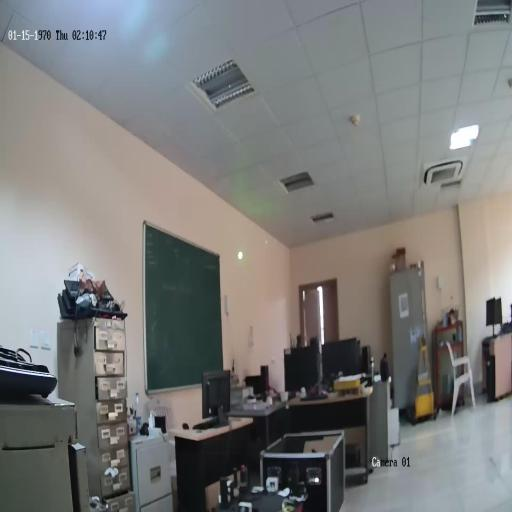laser: (237, 250, 244, 260)
